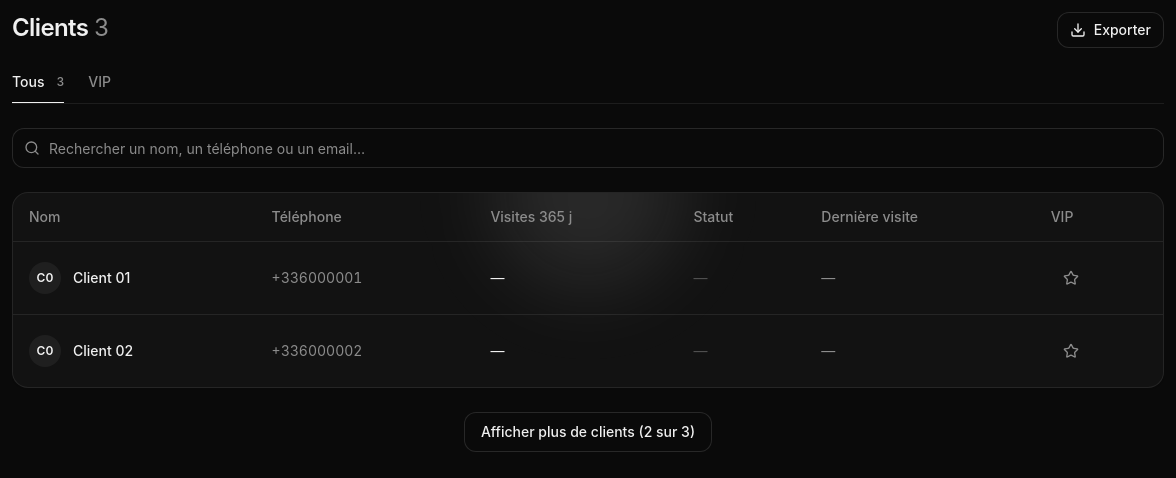
CustomersPage › charge la suite de la liste et annonce le vrai total
Expected: the heading "Clients 3" is shown, [12,12,109,44]
Click the button "Afficher plus de clients (2 sur 3)" at (588, 432), box [464,412,712,452]
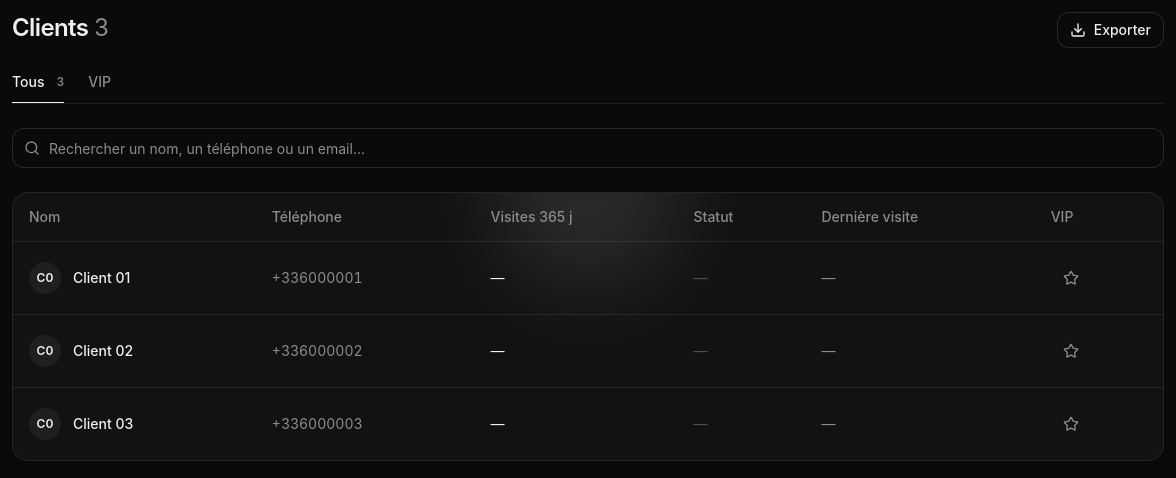
Expected: the text "Client 03" is shown, [73,414,133,434]
Expected: the text "Client 01" is shown 3 times, [73,268,130,288]; [73,340,133,360]; [73,414,133,434]
Expected: the button "Afficher plus" is gone
